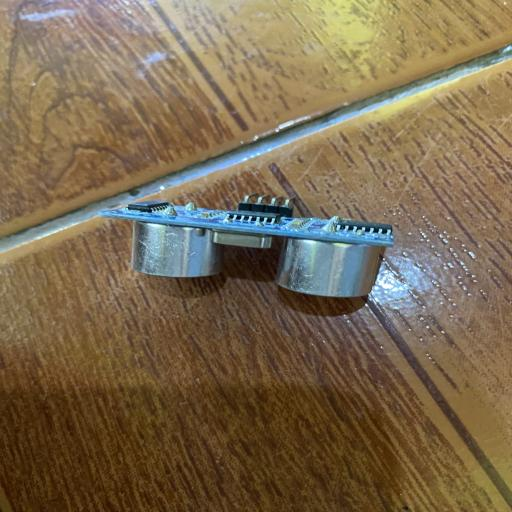Ultrasonic Sensor: (95, 192, 396, 300)
